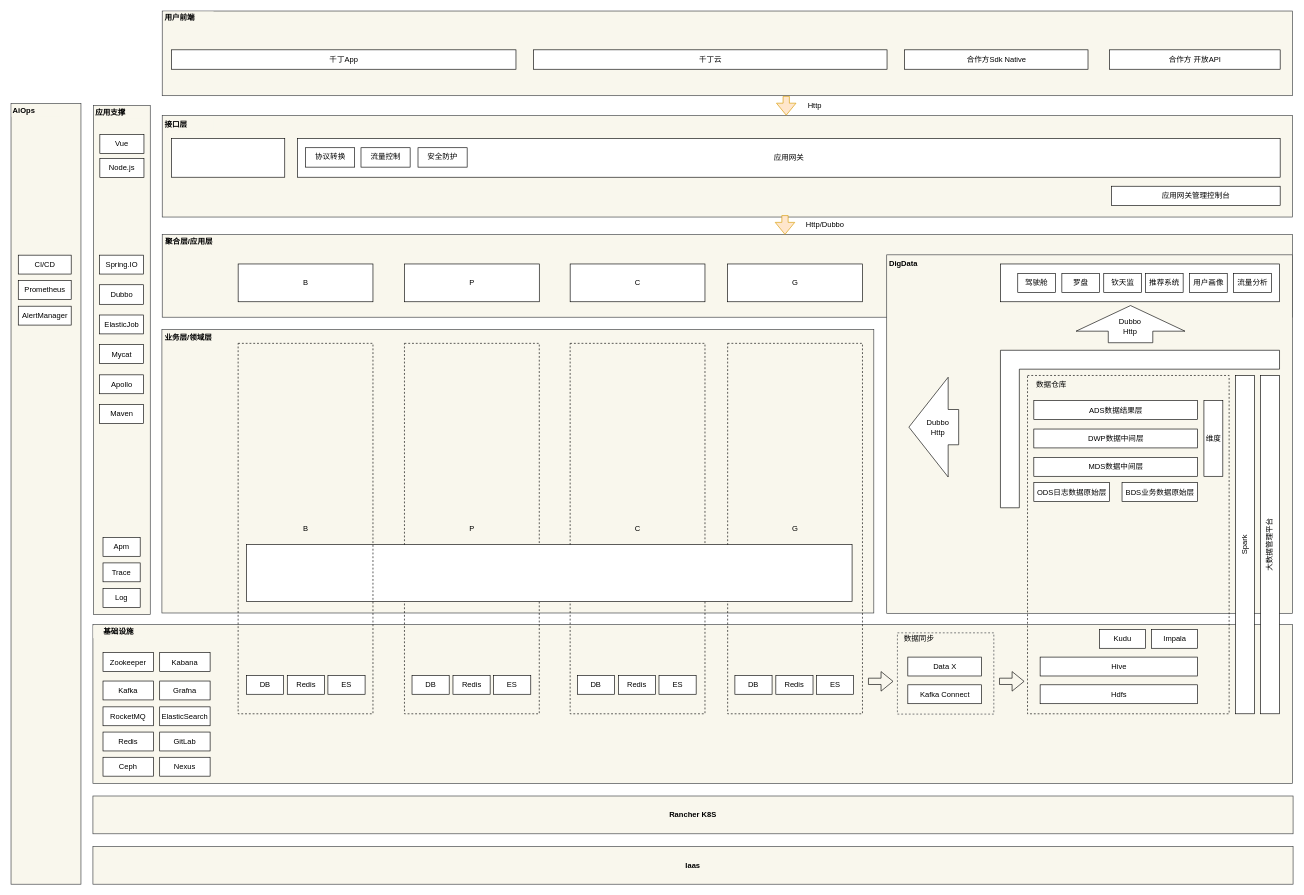
The diagram is 1304 pixels wide and 895 high, and some of its shapes have lost their labels. The shapes that lost their labels are listed below. From the top down, each one's centre as x and y in pixels, then its label:
point (228, 157): 推送系统
point (1140, 429): 数据服务API
point (549, 572): 中台
